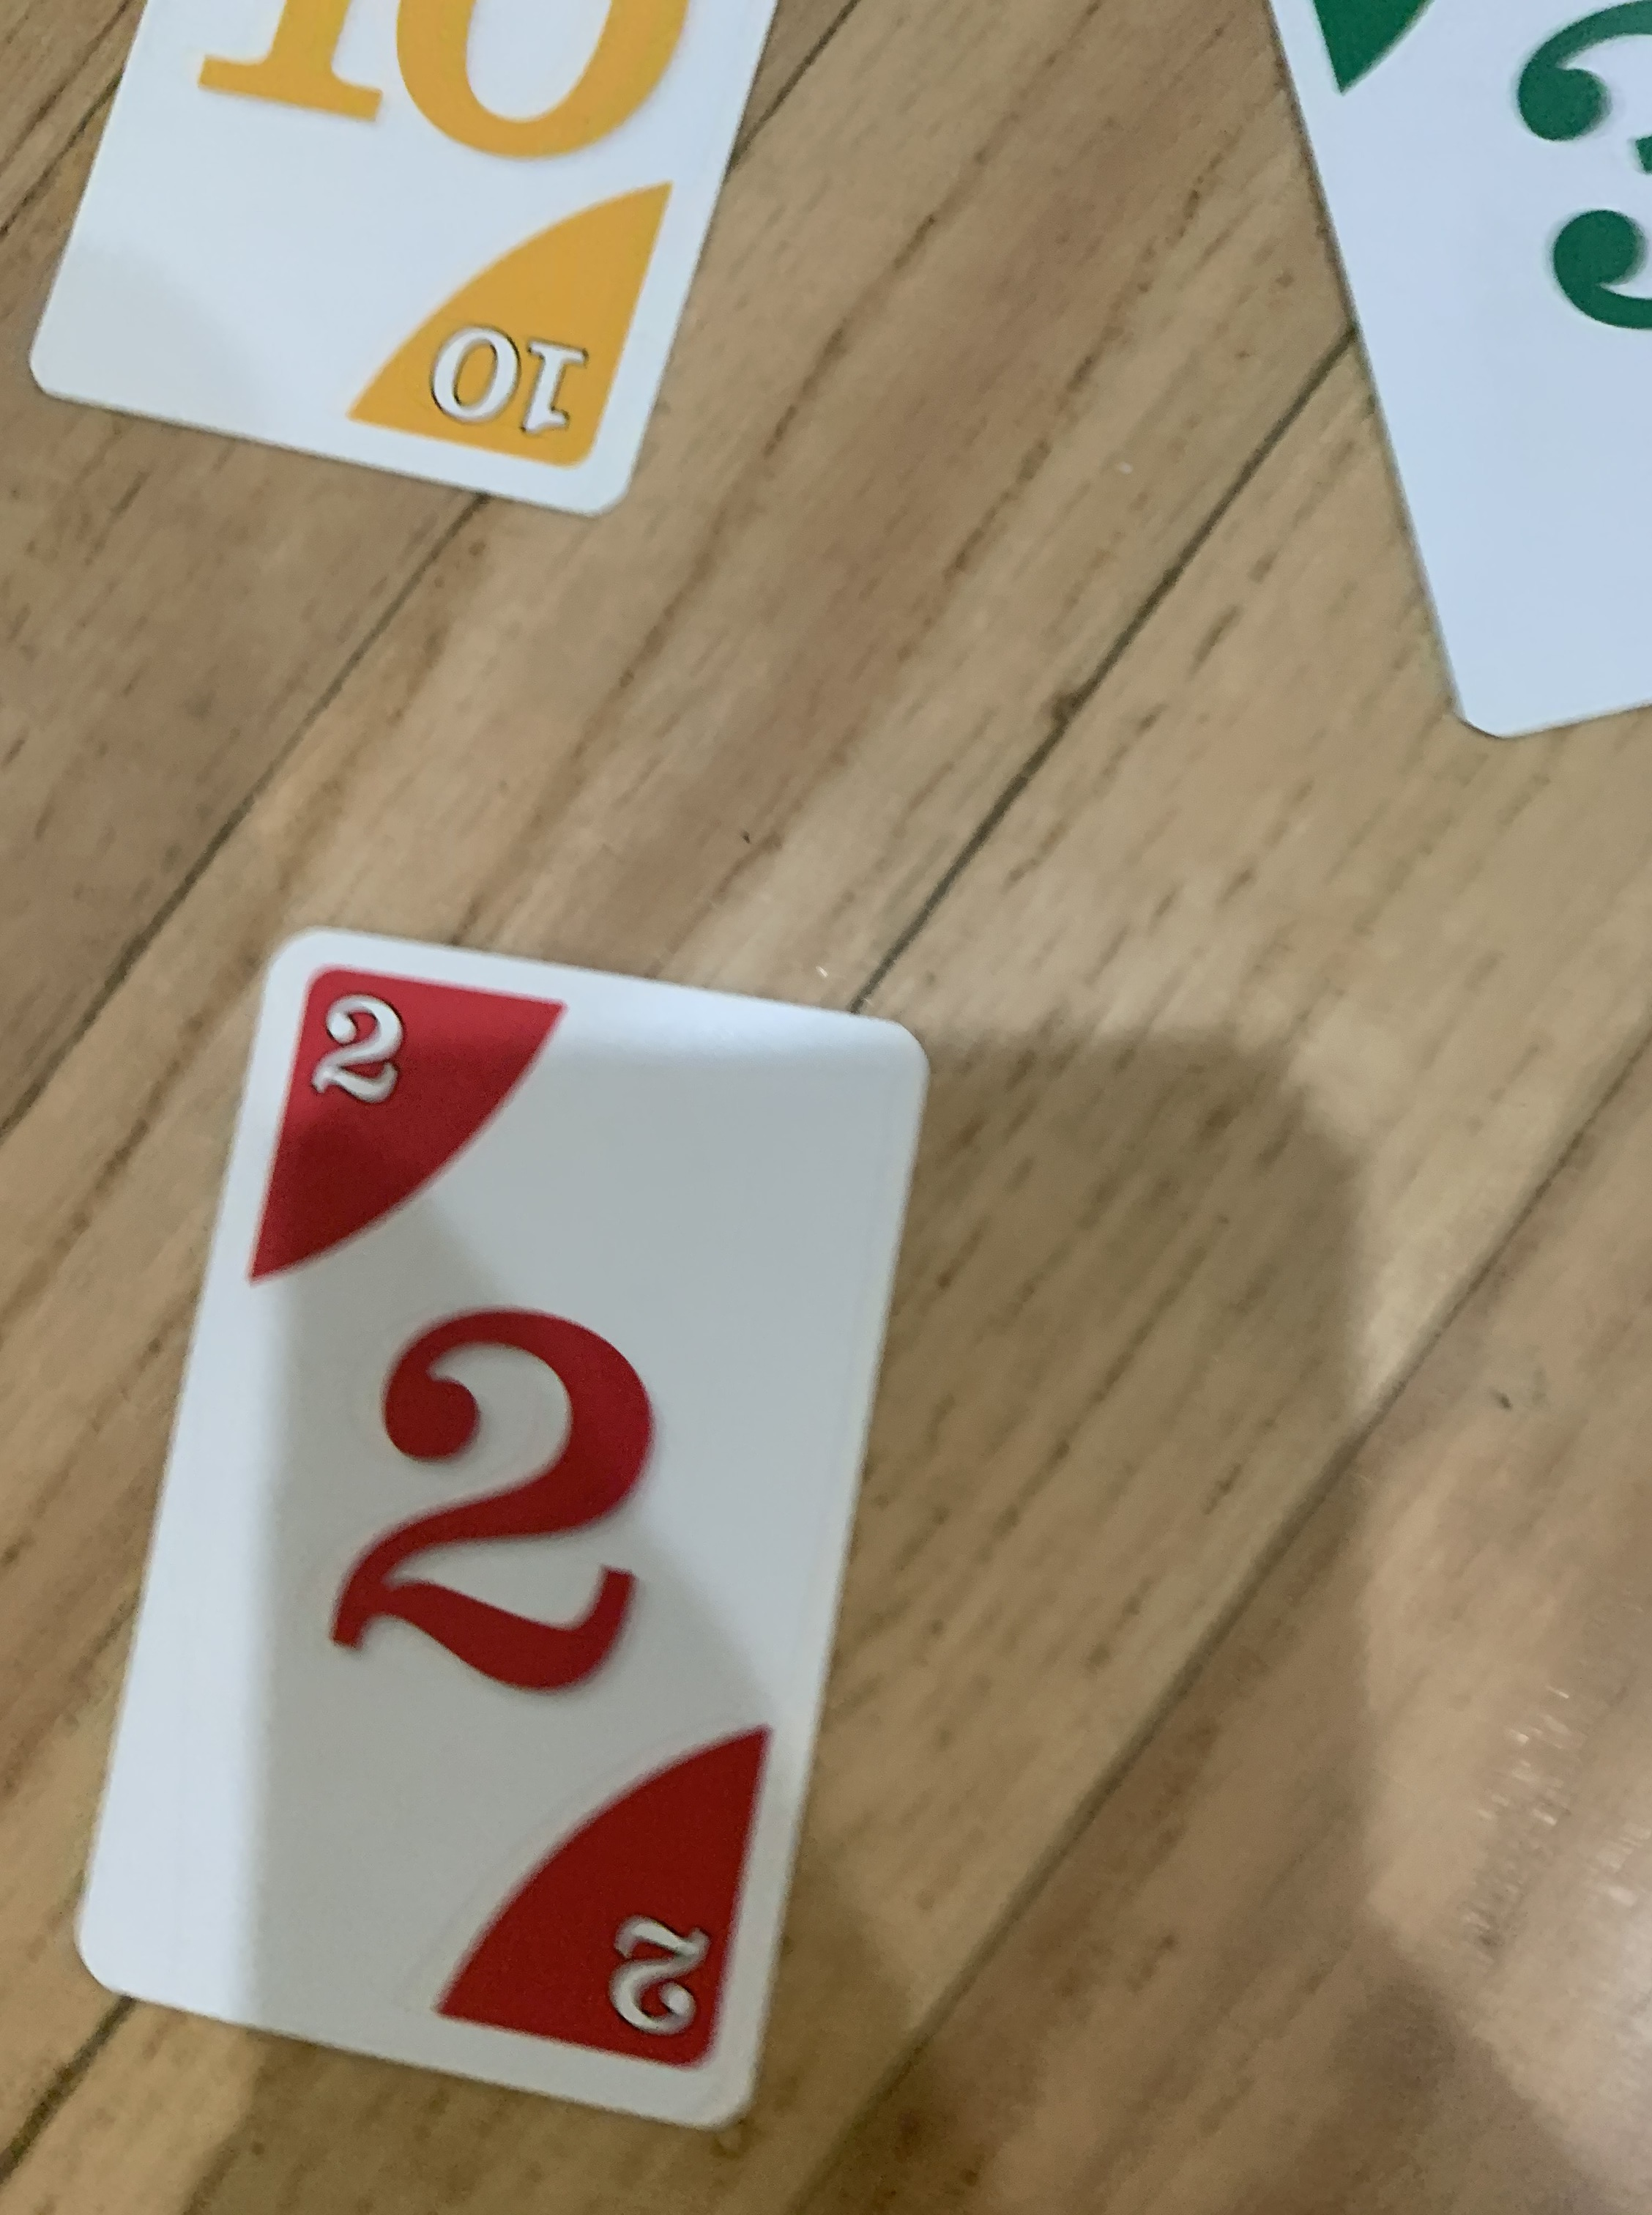two: (75, 918, 939, 2137)
